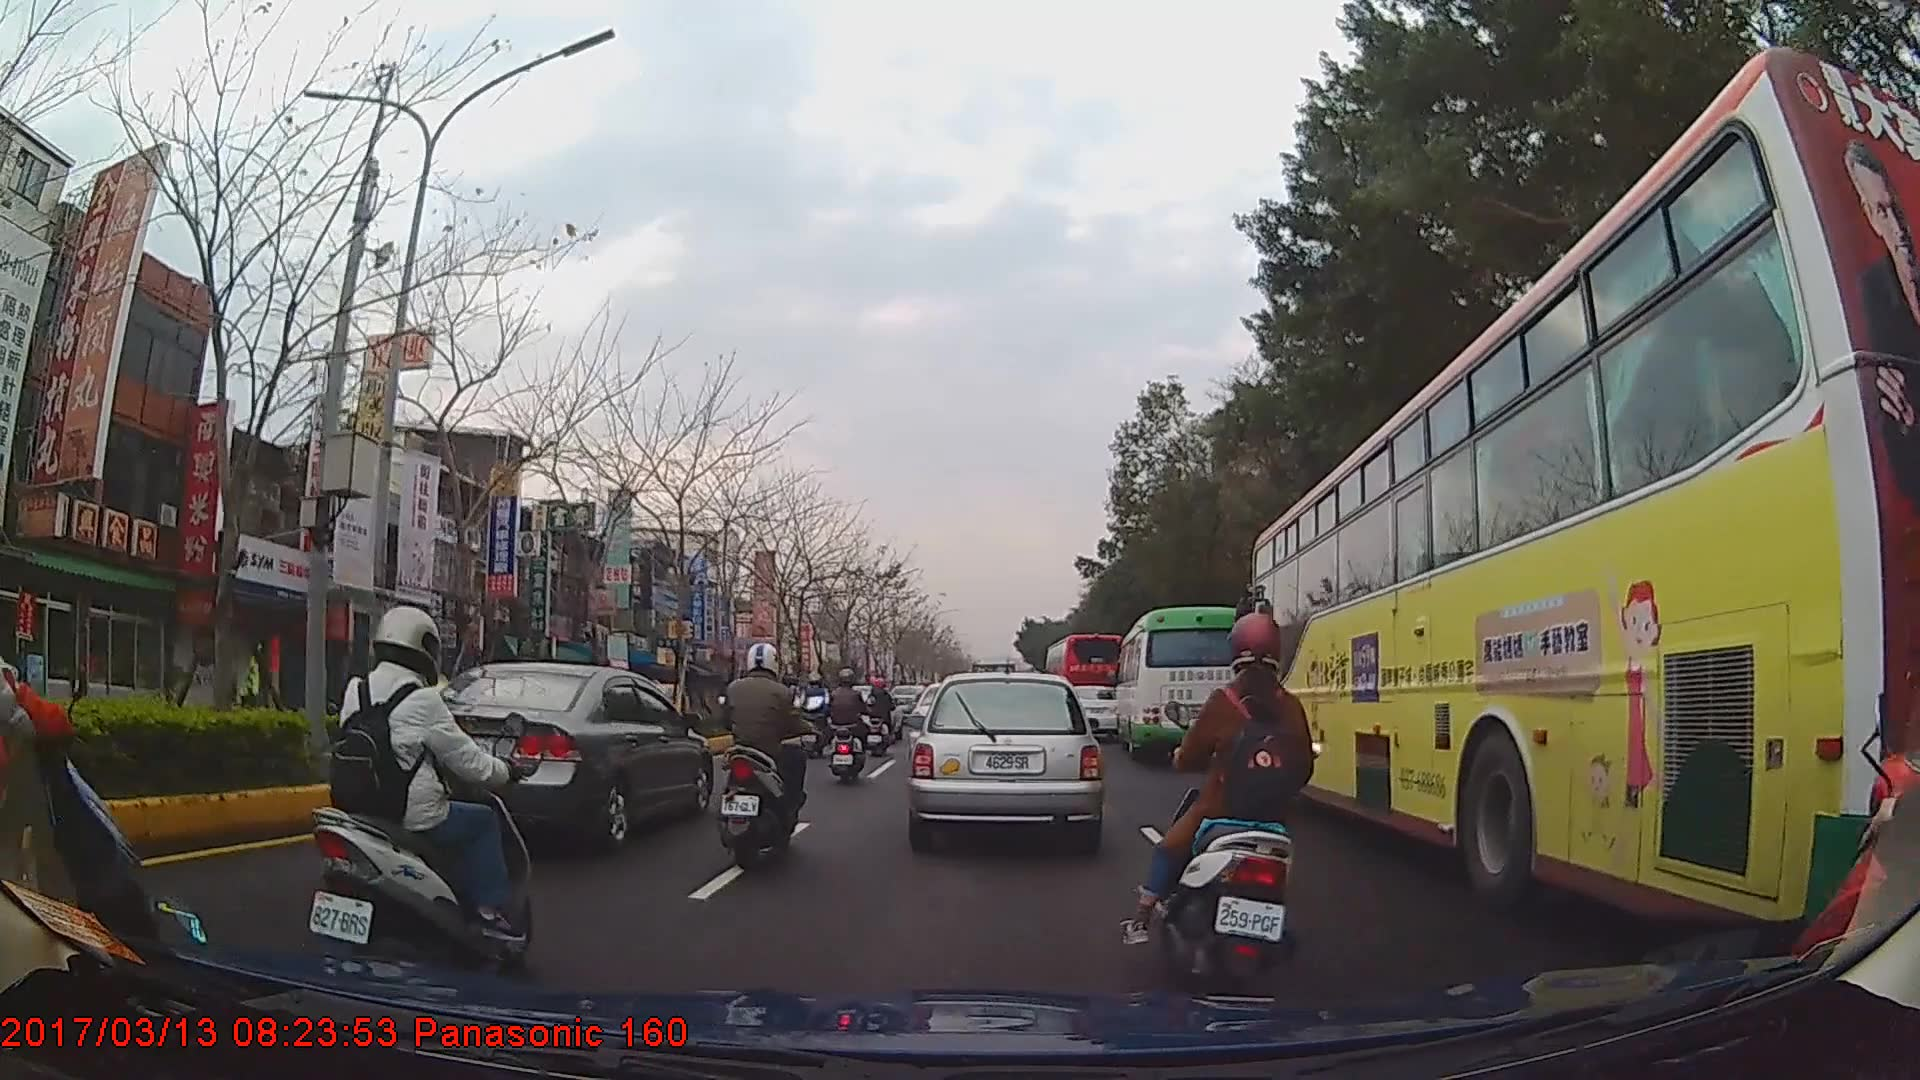rider: (303, 606, 538, 982), (1, 546, 168, 983), (1135, 614, 1324, 995), (718, 642, 822, 875), (826, 670, 866, 785), (865, 678, 897, 759), (800, 674, 835, 746)
vehicle: (1252, 44, 1918, 936), (381, 660, 713, 852), (909, 667, 1102, 848), (1115, 604, 1267, 761), (1045, 633, 1130, 734)
